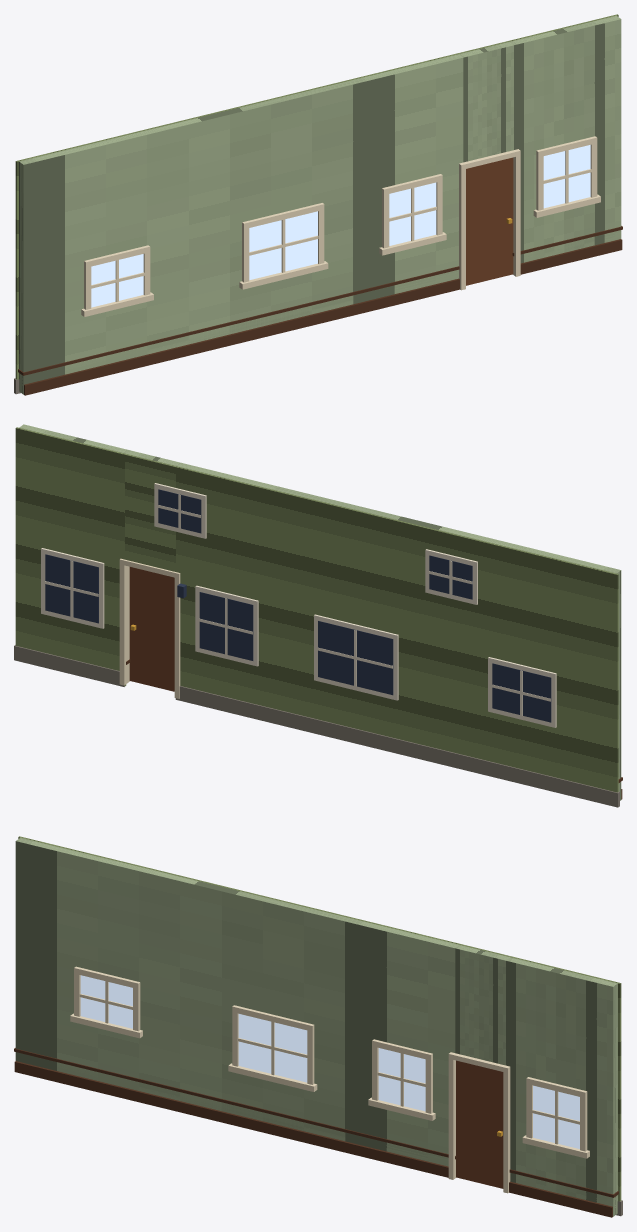
Rendered from front.glb.
The picture shows the model from 3 angles, top to bottom: view 1: azimuth 30°, elevation 25°; view 2: azimuth 150°, elevation 25°; view 3: azimuth 330°, elevation 25°; orthographic projection.
Parts seen in each view (by area): view 1: Box1, Box3, Box5, Box14, Box2, Box47, Box70, Box25, Box36, Box58, Box71, Box6 (+10 smaller); view 2: Box6, Box8, Box7, Box14, Box10, Box40, Box1, Box29, Box18, Box51, Box9, Box39 (+10 smaller); view 3: Box1, Box3, Box5, Box14, Box2, Box47, Box70, Box36, Box25, Box58, Box71, Box4 (+10 smaller).
Part boxes in pixels (<box>): Box1: <box>19,54,463,394</box>; Box3: <box>510,15,621,263</box>; Box5: <box>459,42,513,162</box>; Box14: <box>466,157,513,285</box>; Box2: <box>24,278,459,395</box>; Box47: <box>249,211,317,280</box>; Box70: <box>19,269,458,393</box>; Box25: <box>543,145,590,208</box>; Box36: <box>389,182,436,245</box>; Box58: <box>91,254,143,307</box>; Box71: <box>18,266,459,375</box>; Box6: <box>15,53,457,379</box>; Box6: <box>176,466,618,792</box>; Box8: <box>15,427,126,685</box>; Box7: <box>175,686,619,807</box>; Box14: <box>129,567,174,691</box>; Box10: <box>125,454,176,571</box>; Box40: <box>318,621,393,695</box>; Box1: <box>177,463,621,800</box>; Box29: <box>199,592,253,660</box>; Box18: <box>45,554,98,623</box>; Box51: <box>492,663,551,722</box>; Box9: <box>14,645,124,686</box>; Box39: <box>314,614,398,700</box>; Box1: <box>15,837,458,1166</box>; Box3: <box>506,957,617,1216</box>; Box5: <box>455,945,510,1065</box>; Box14: <box>456,1060,503,1188</box>; Box2: <box>14,1061,448,1177</box>; Box47: <box>238,1014,307,1082</box>; Box70: <box>16,1052,448,1166</box>; Box36: <box>378,1048,425,1111</box>; Box25: <box>533,1085,579,1148</box>; Box58: <box>80,975,132,1028</box>; Box71: <box>14,1048,456,1159</box>; Box4: <box>509,1181,612,1217</box>.
Size of the model in its own units: 11.27 by 4.14 by 0.395.
10 materials, 2 textured.
